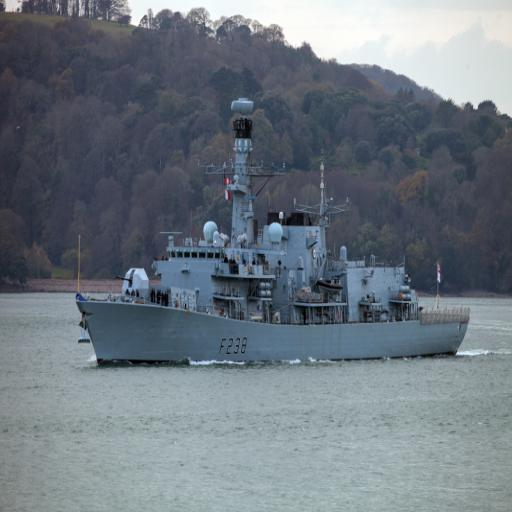Fragata: (77, 95, 473, 373)
